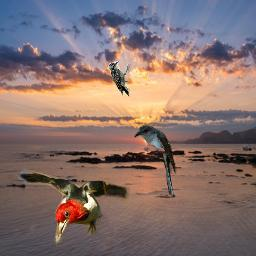Cuckoo: (134, 125, 177, 195)
Woodpecker: (13, 166, 130, 246), (108, 61, 131, 97)
